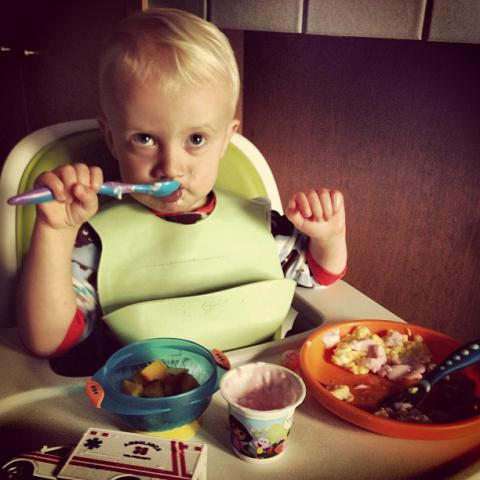truck: (0, 425, 208, 479)
